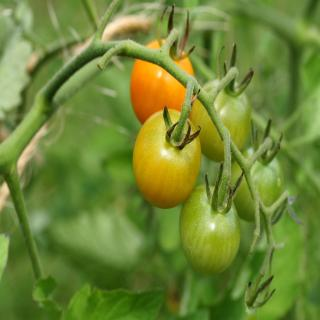tomato: (131, 81, 202, 211), (129, 3, 196, 125), (190, 43, 253, 163), (179, 162, 243, 276), (229, 118, 284, 224)
